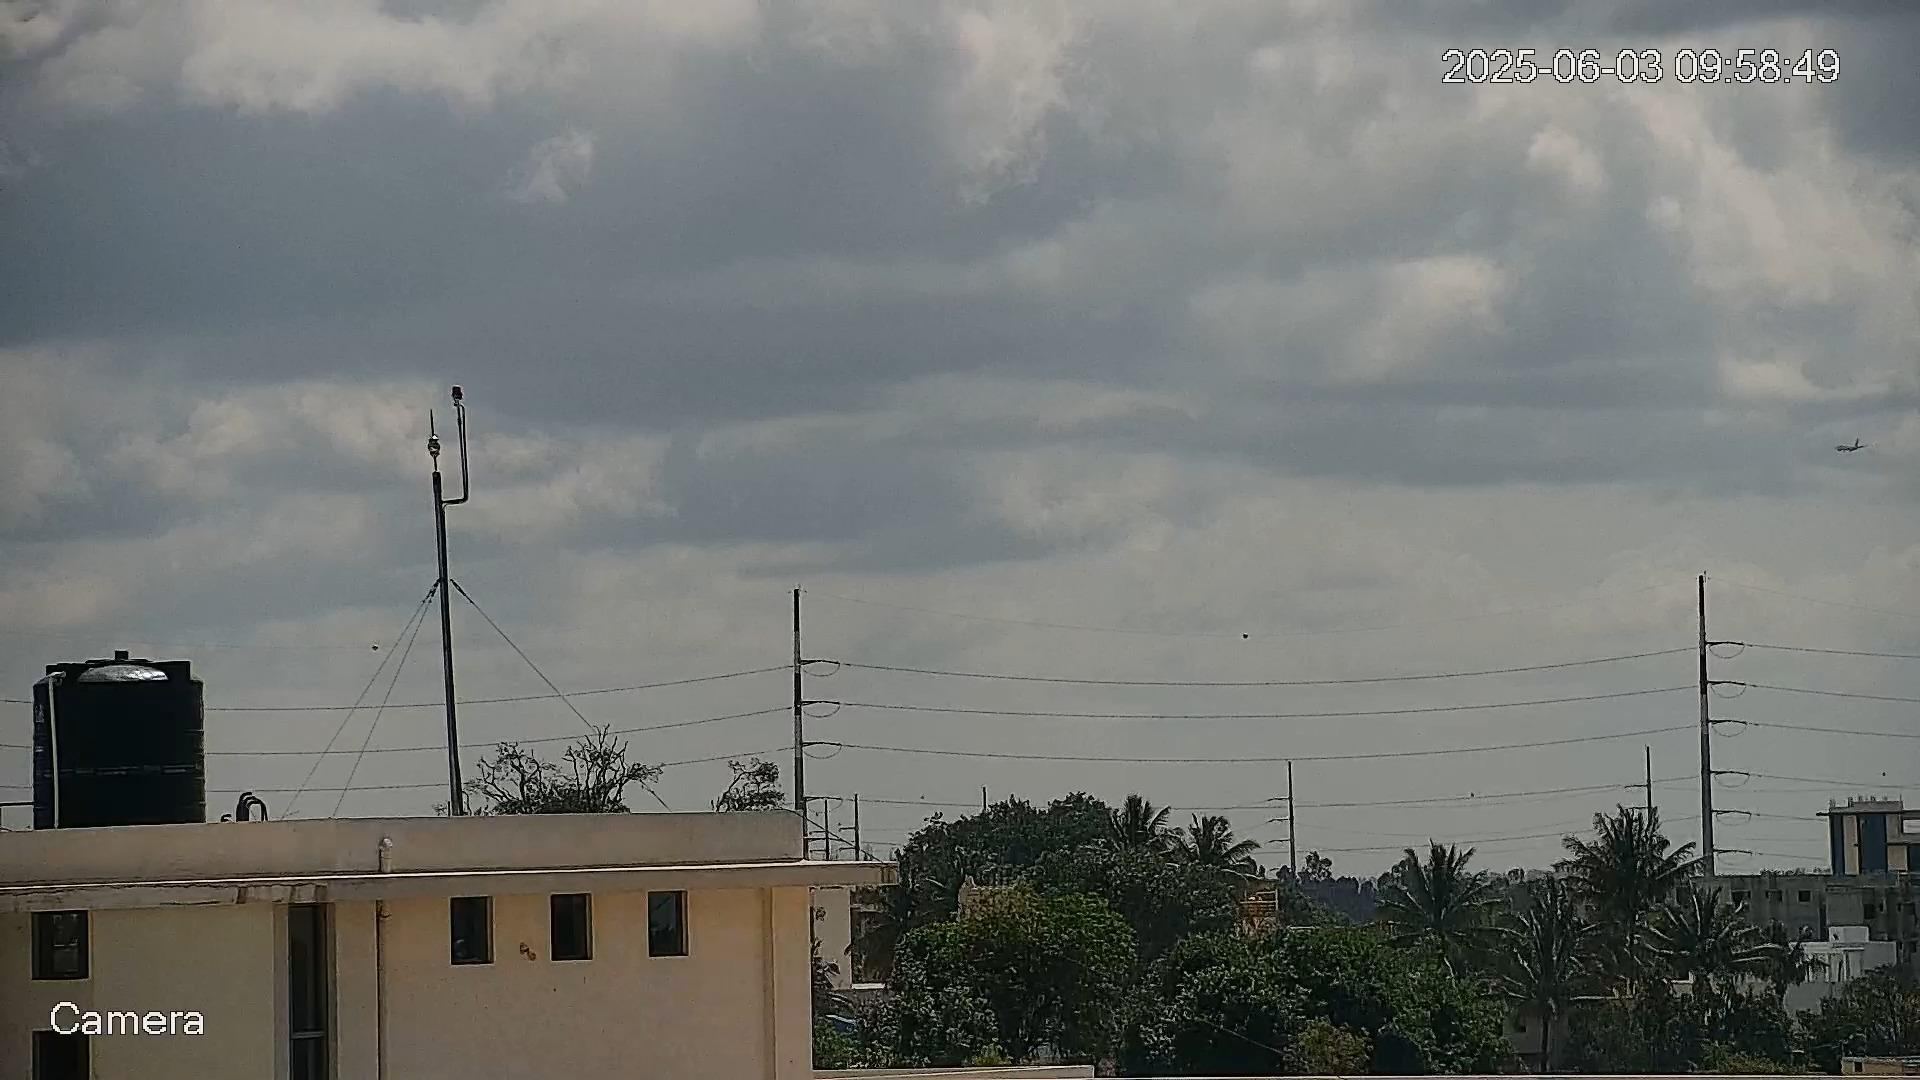Aircraft: (1834, 438, 1867, 454)
